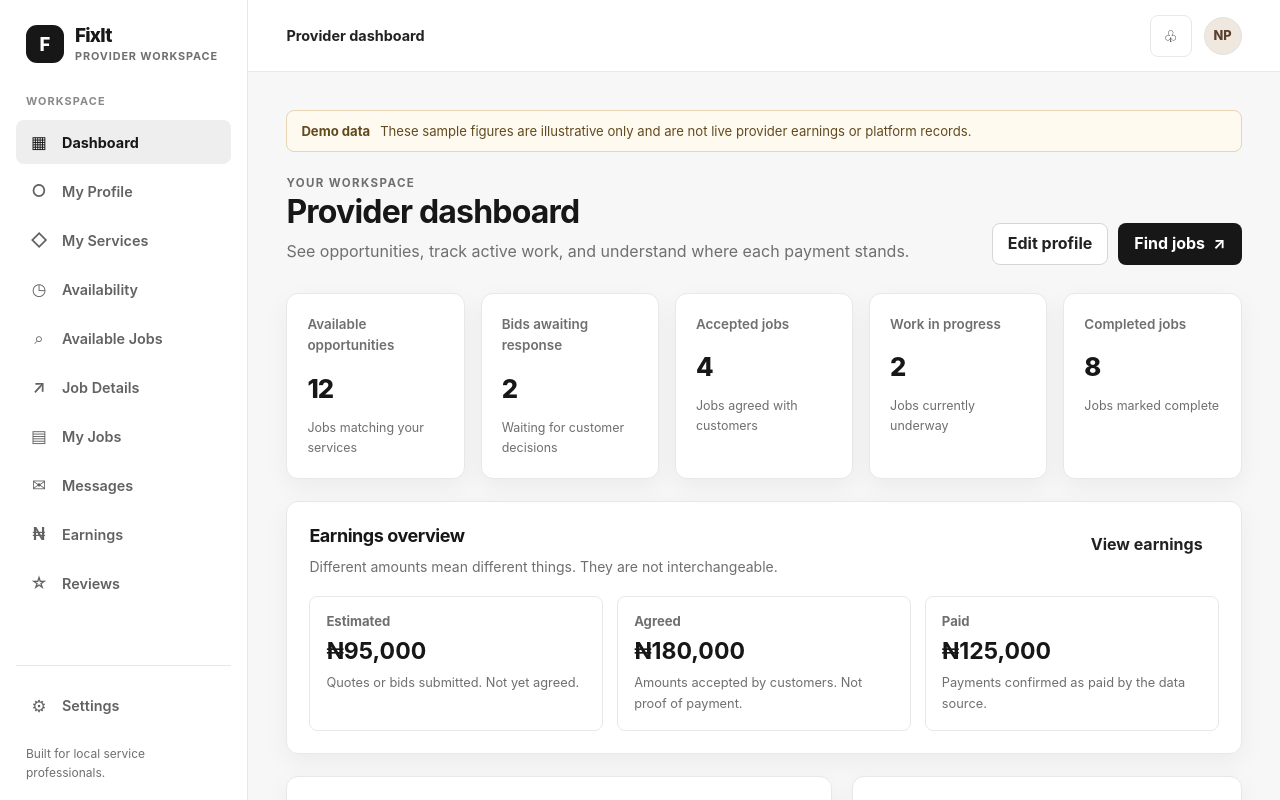
Scenario: provider workspace navigation › opens the Job Details screen and marks it active
The image size is (1280, 800).
Step 1. Click the text "Job Details" → (101, 387), box [62,379,140,396]
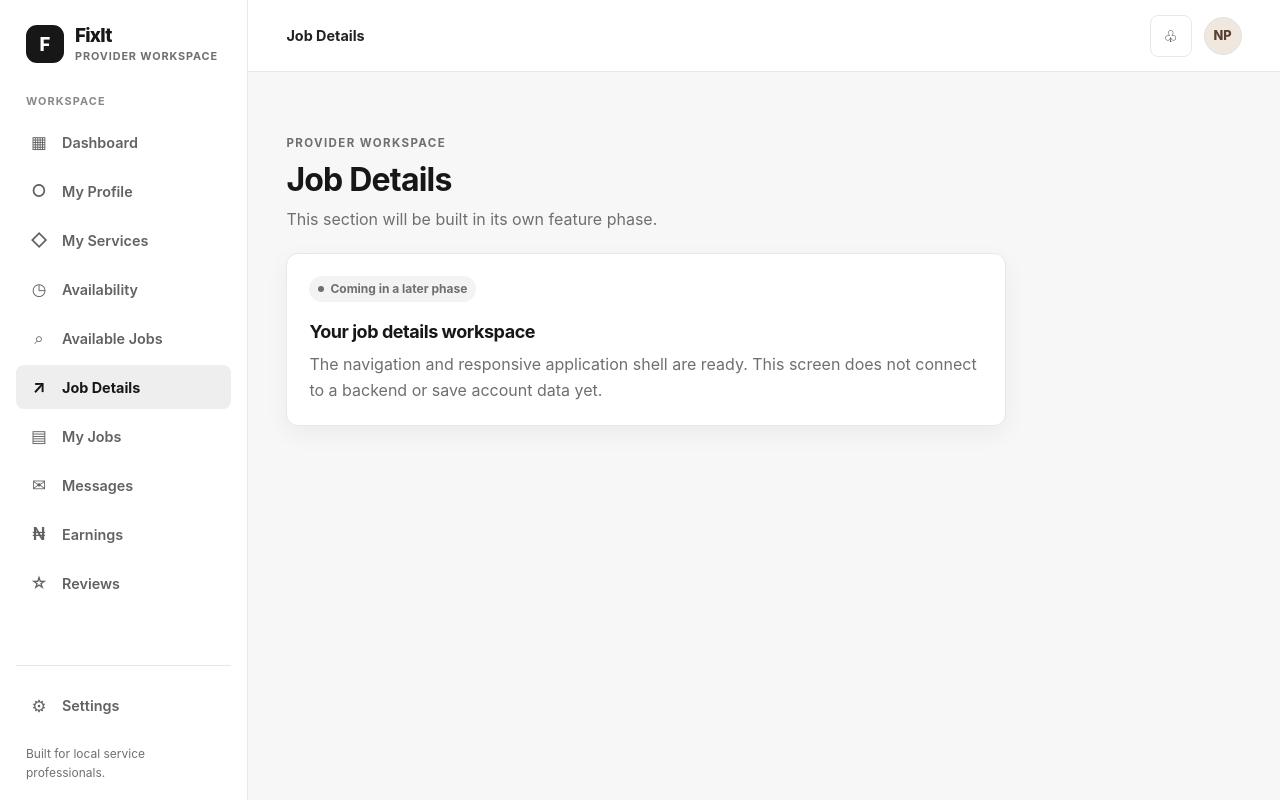
Result: the heading "Job Details" is shown at [286,160,452,199]
